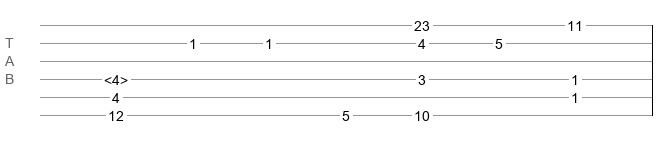1: (189, 36, 197, 46), (265, 36, 273, 46), (571, 72, 579, 82), (571, 90, 579, 100)
10: (414, 108, 430, 118)
11: (567, 18, 583, 28)
12: (108, 108, 124, 118)
23: (414, 18, 430, 28)
3: (418, 72, 426, 82)
4: (112, 90, 120, 100), (418, 36, 426, 46)
5: (342, 108, 350, 118), (495, 36, 503, 46)
harmonic: (104, 72, 128, 82)
